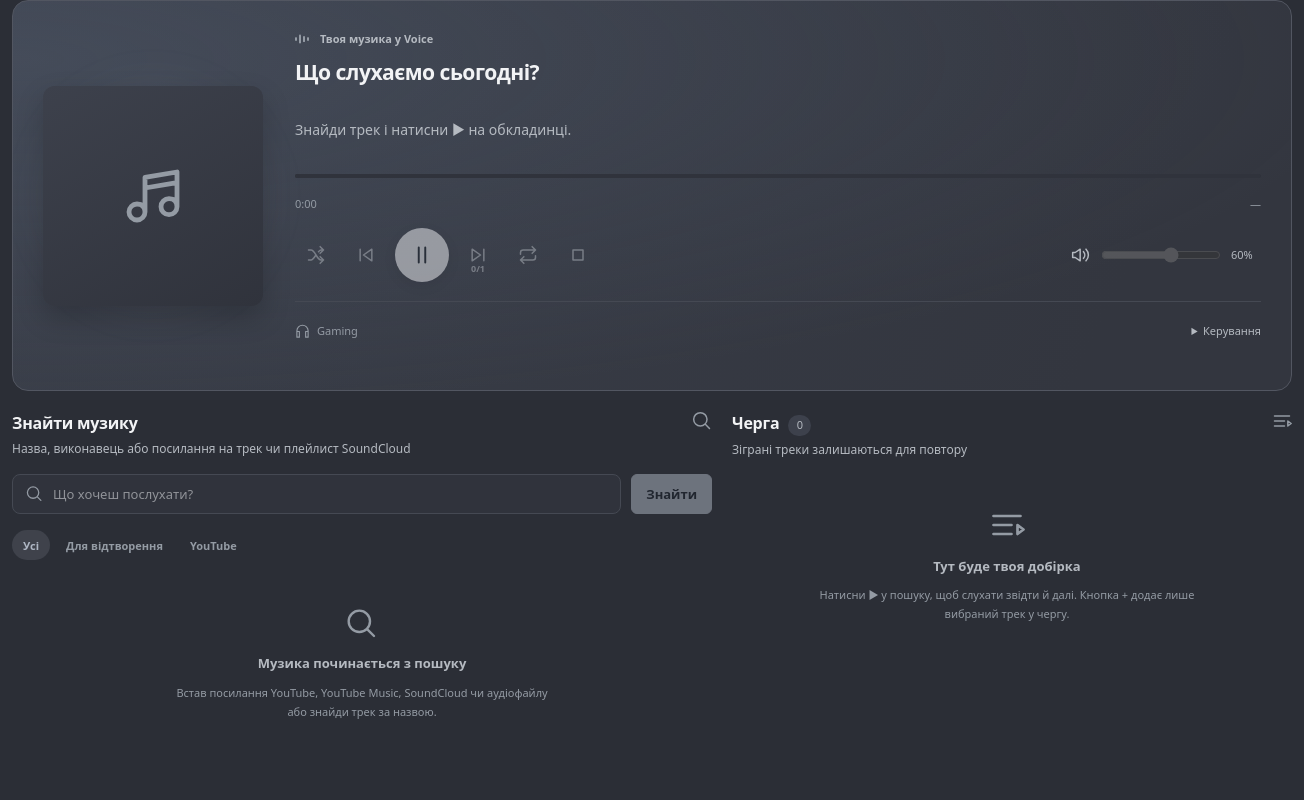
Media catalog search feedback › distinguishes a configured catalog outage from missing configuration
This screenshot has width=1304, height=800.
Type "https://music.youtube.com/watch?v=hmzIgMhbefo&si=share" into the search field at {"x": 337, "y": 494}, box 53,475 -> 620,513
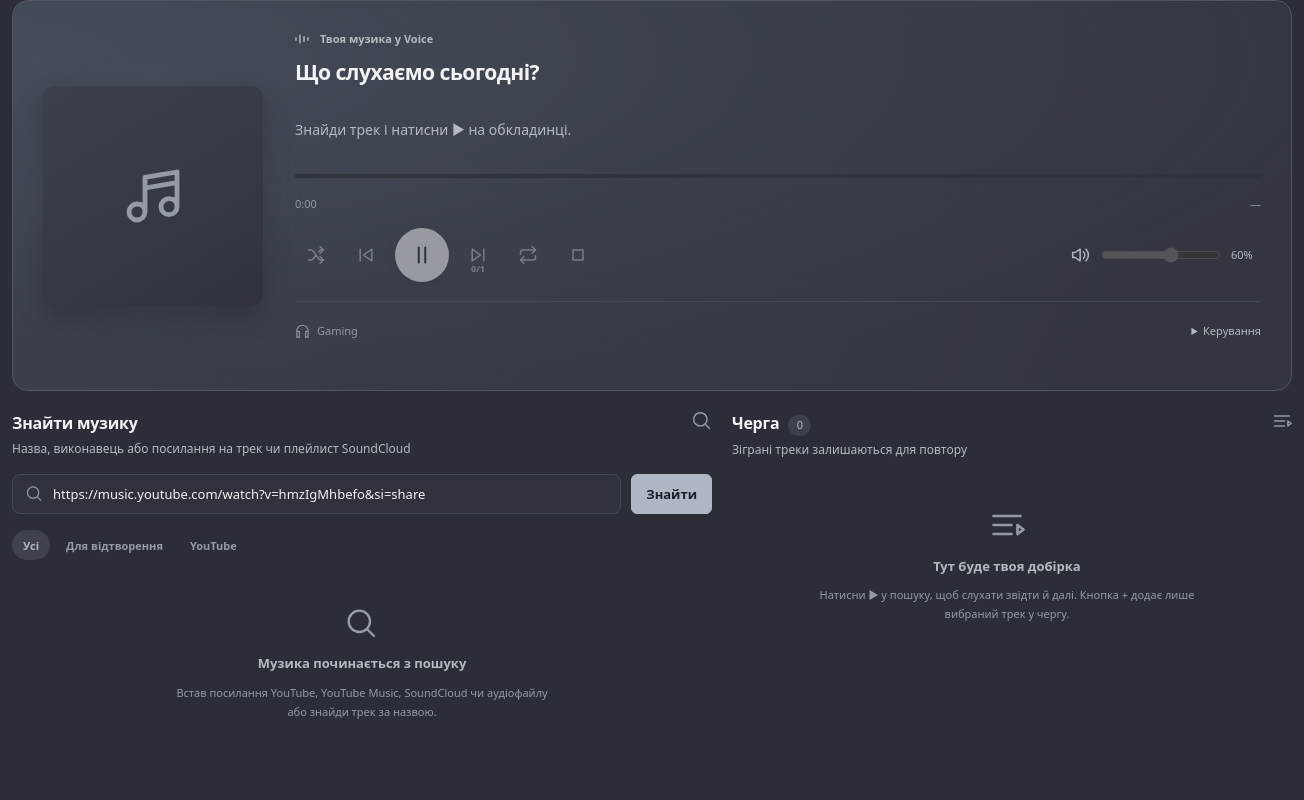
Click the button "Знайти" at {"x": 672, "y": 494}, box 631,474 -> 712,514
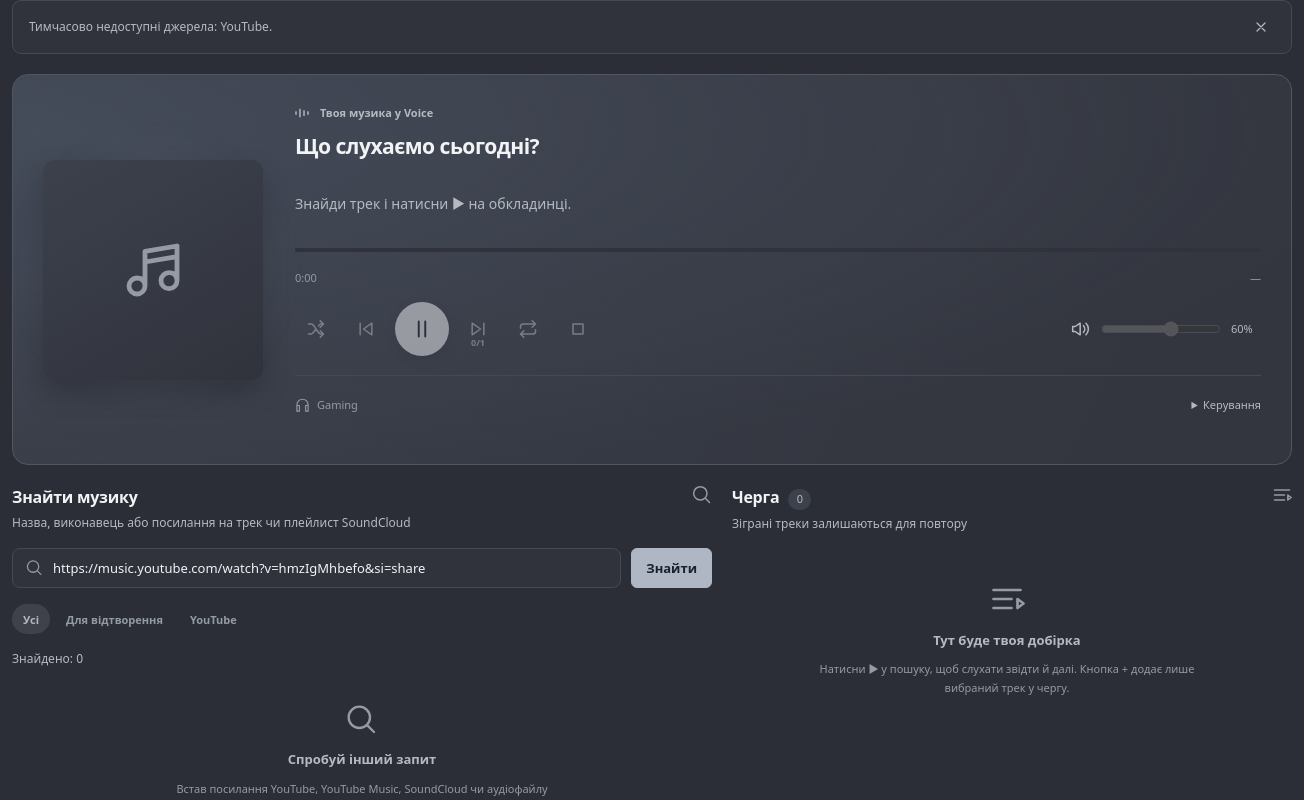
Check: the text "Тимчасово недоступні джерела: YouTube." is shown, box 12,0 -> 1292,54
